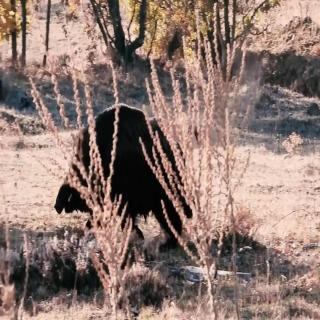Pig: (57, 80, 215, 304)
